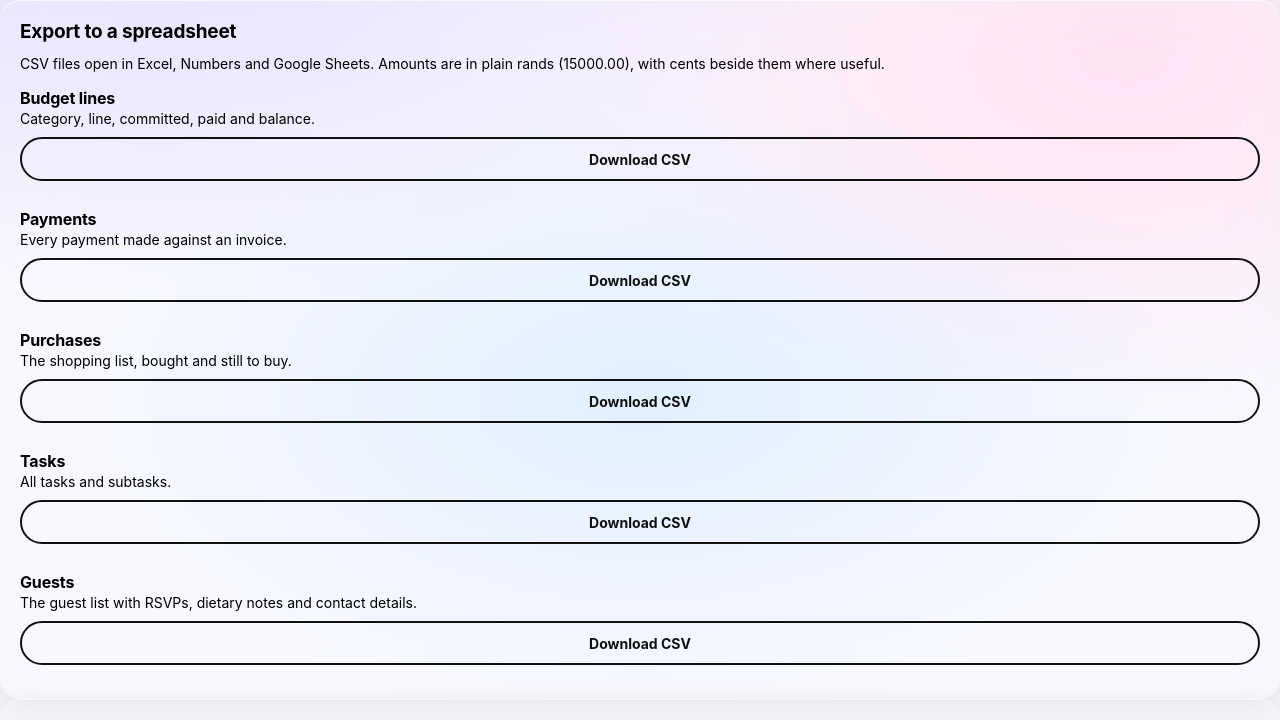
a failed fetch downloads nothing, says so, and can be retried
Click the button with aria-label "Download Guests CSV": point(640, 643) top-left (20, 621), bottom-right (1260, 665)
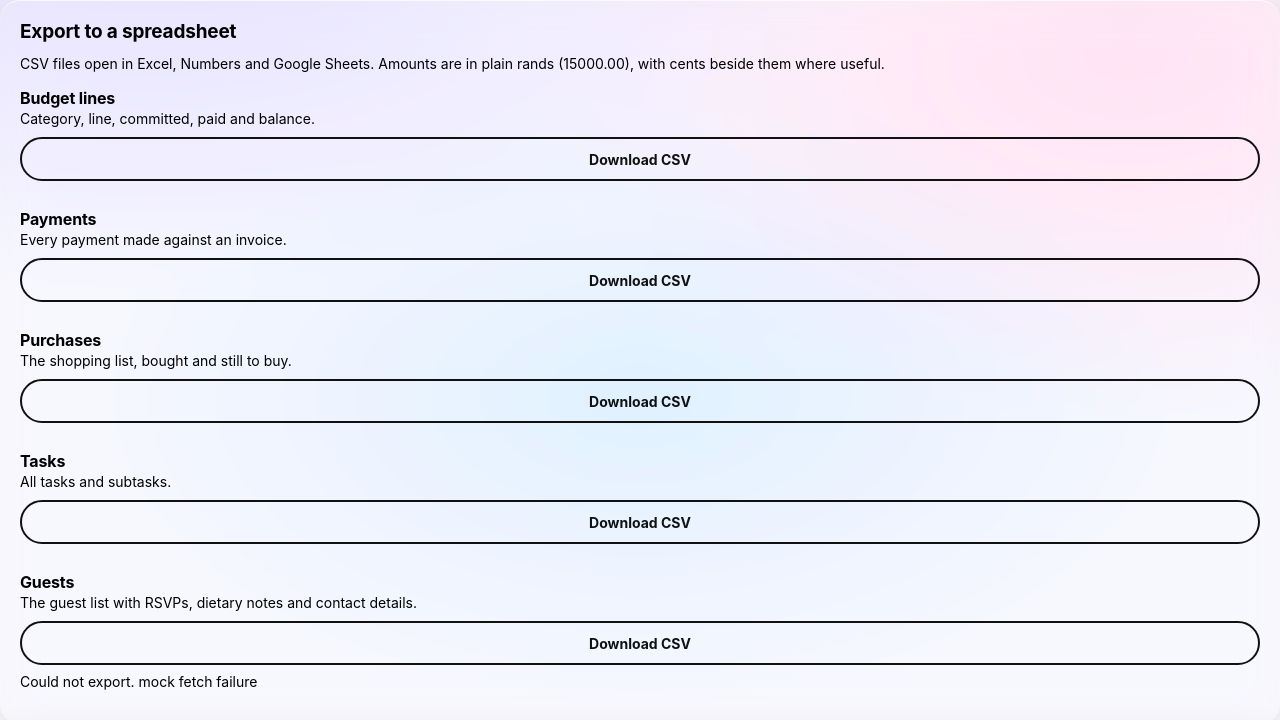
Check: the message shows "Could not export", box top-left (20, 673), bottom-right (257, 690)
Click the button with aria-label "Download Guests CSV": point(640, 643) top-left (20, 621), bottom-right (1260, 665)
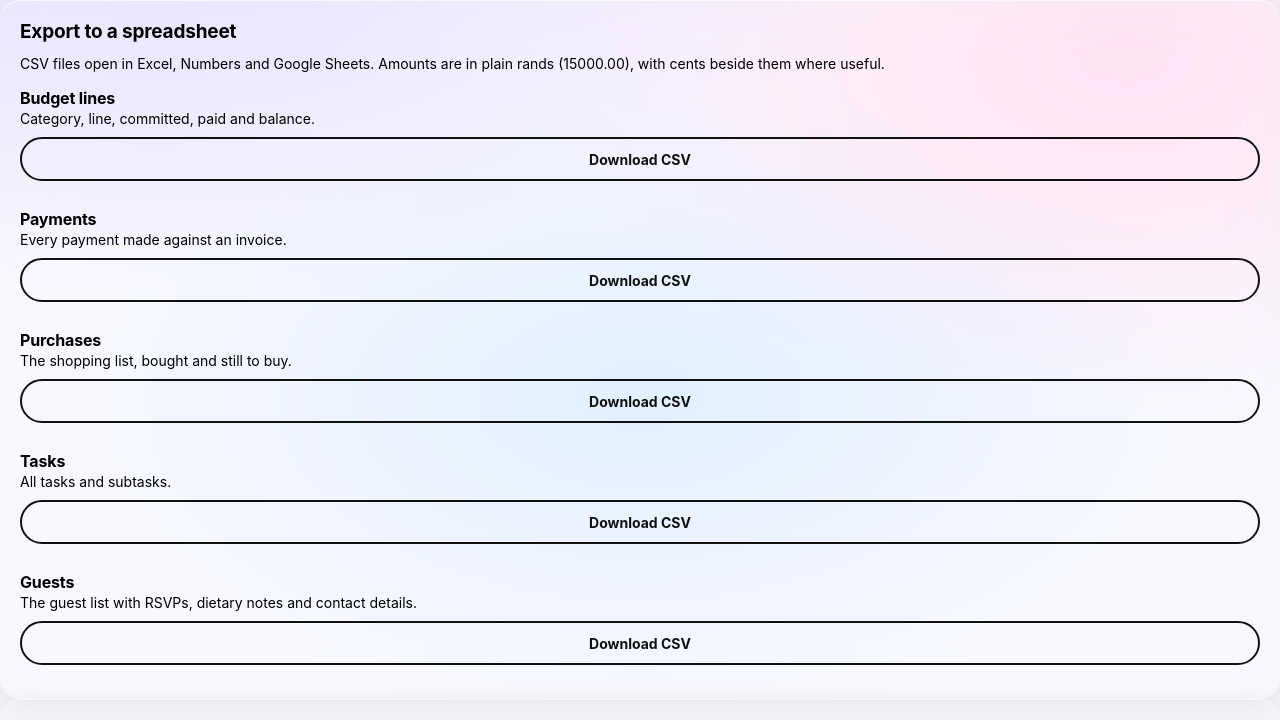
Check: the message "Could not export. mock fetch failure" is gone
